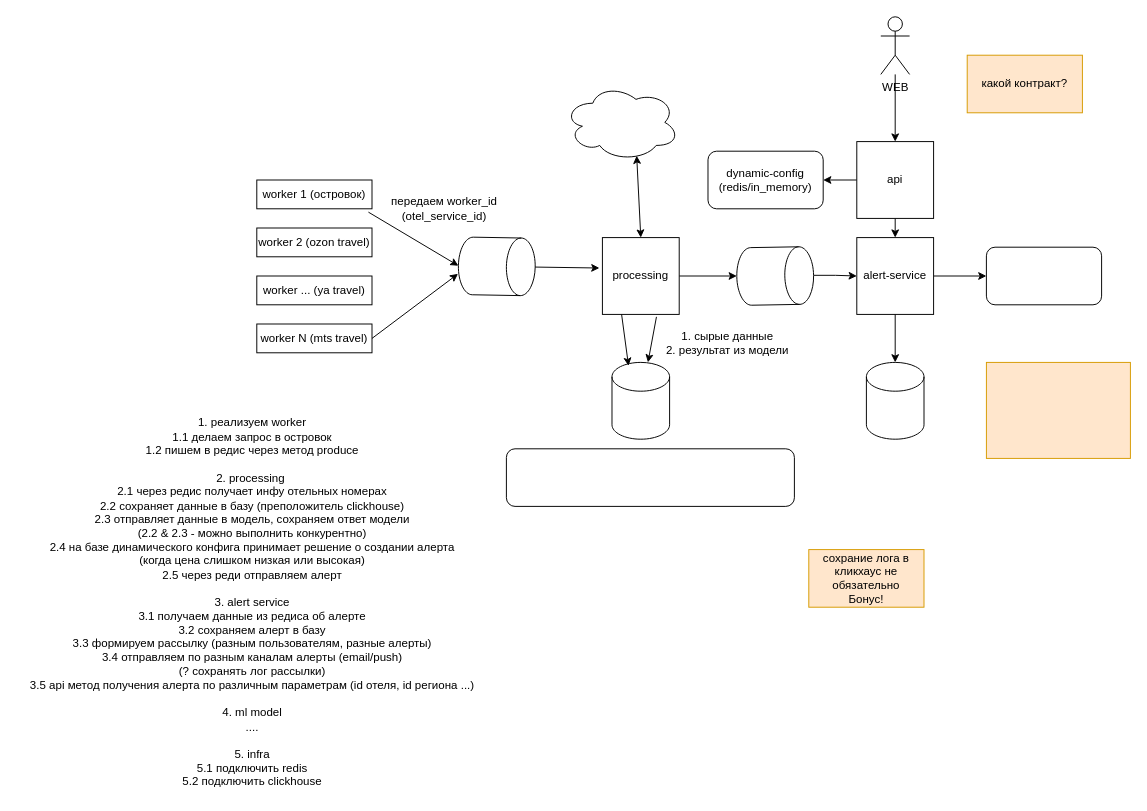
Some shapes in this 1147 by 811 pixel diagram are drawn without their labels. The box of each missing label's shape, as (x1, y1, x2, y2) in pixels:
alert-db: (865, 361, 924, 439)
db: (611, 361, 670, 439)
email, push ....: (985, 246, 1102, 305)
ml model: (563, 83, 679, 161)
sql : id | date | address | cost | new_cost clickhouse / mongodb (?) : jsonData: (505, 448, 794, 506)
менеджер островка может подписаться на алерты с определенных отлелей/регионов: (985, 361, 1130, 458)
